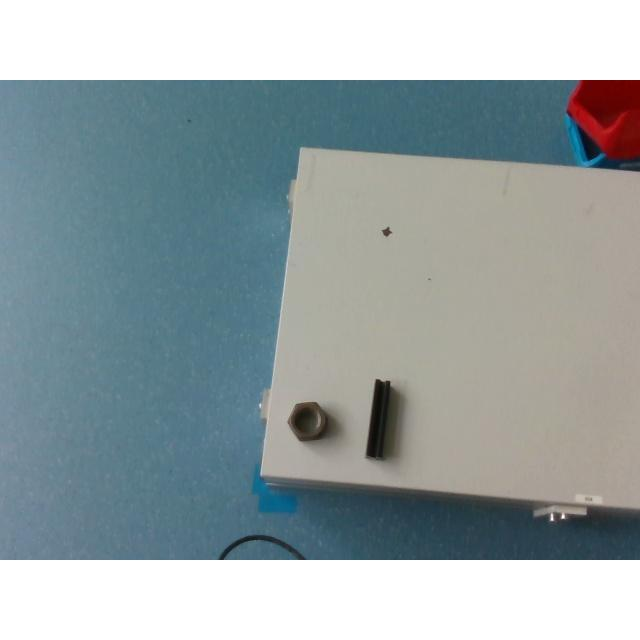F20_20_B: (366, 380, 389, 458)
M30: (288, 402, 328, 442)
